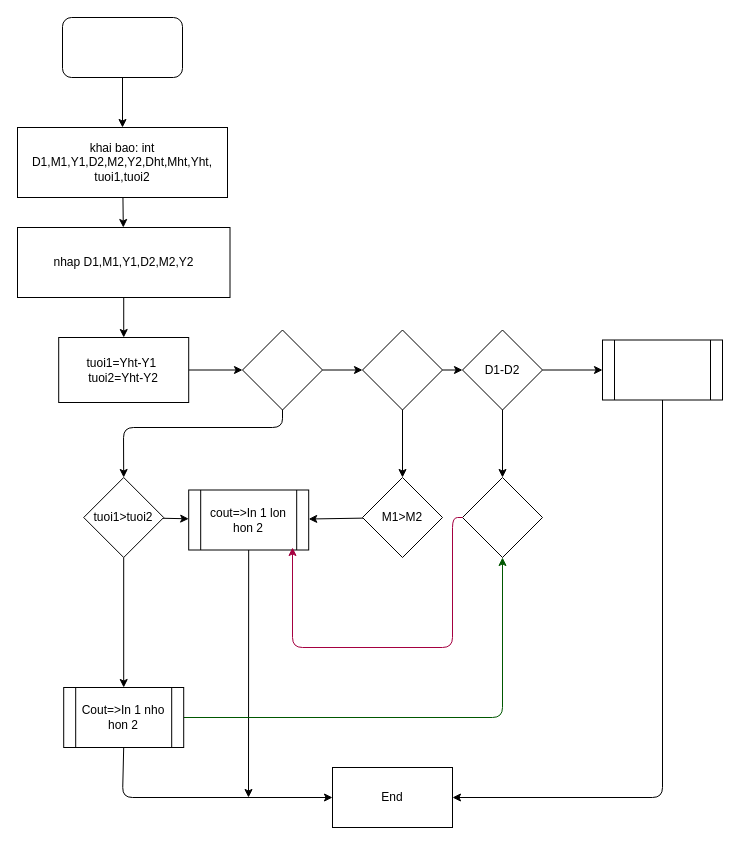
This 740x845 diagram has some shape labels left out. The box of each missing label's shape, as (x1, y1, x2, y2) in pixels:
cout=>In bang 2: (602, 339, 722, 400)
D1>D2: (462, 476, 542, 558)
M1=M2: (362, 329, 442, 410)
start: (62, 16, 182, 78)
tuoi1=tuoi2: (242, 329, 322, 410)
